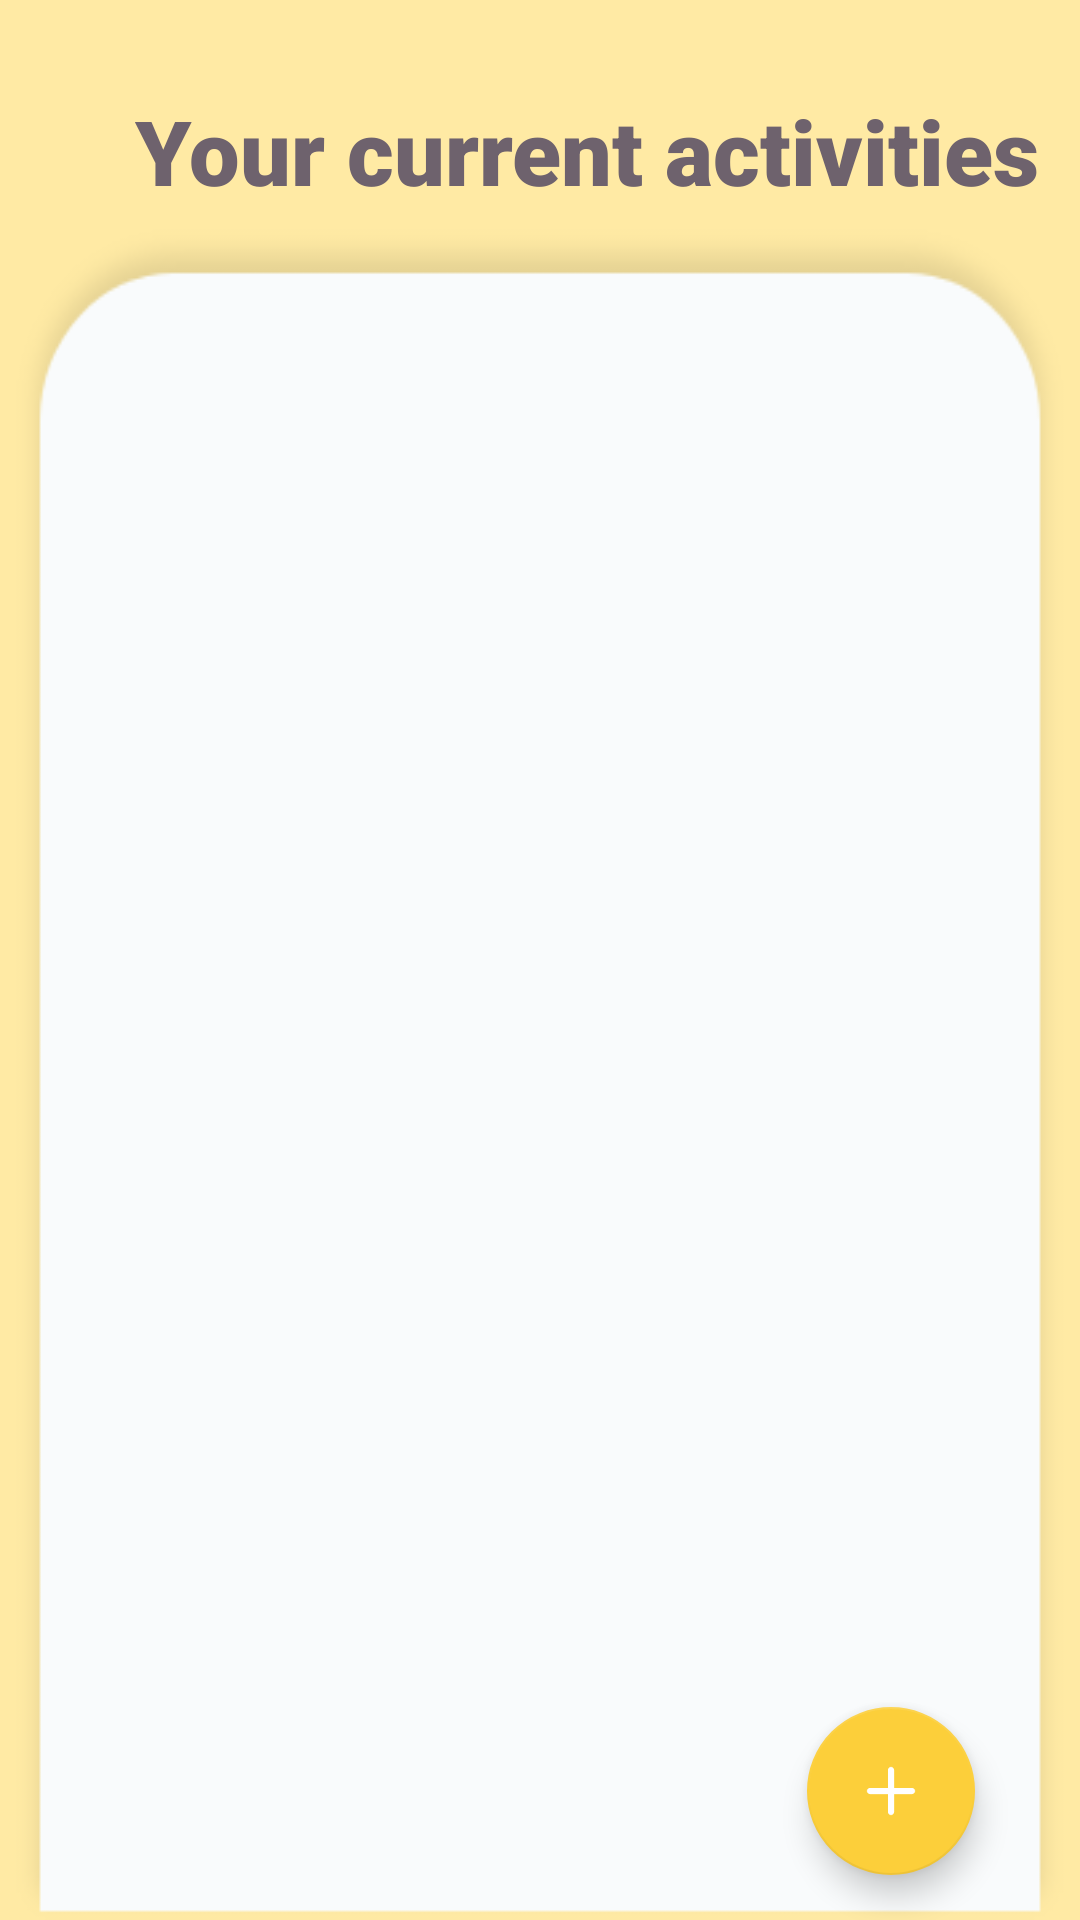

Where icons sit on this 1080w x 1920h app screen, as (x1, y1, x2, y2):
plus: (807, 1707, 975, 1875)
